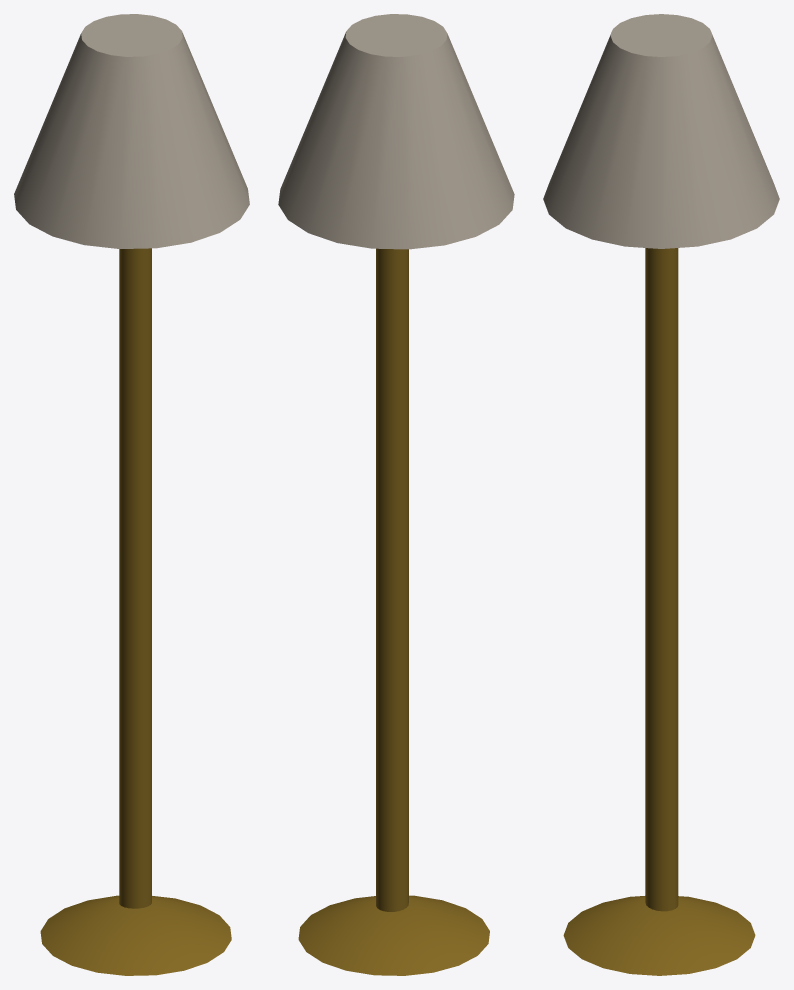
File: lamp_1.fbx
3 views of the same model, side by side, from view 1: azimuth 30°, elevation 25°; view 2: azimuth 150°, elevation 25°; view 3: azimuth 270°, elevation 25° (orthographic).
Parts seen in each view (by area): view 1: lamp_stand1; view 2: lamp_stand1; view 3: lamp_stand1.
Part boxes in pixels (bbox=[...]): lamp_stand1: bbox=[14, 14, 249, 975]; lamp_stand1: bbox=[278, 14, 514, 975]; lamp_stand1: bbox=[543, 14, 779, 975].
Size of the model in its own units: 11.2 by 46.9 by 11.2.
